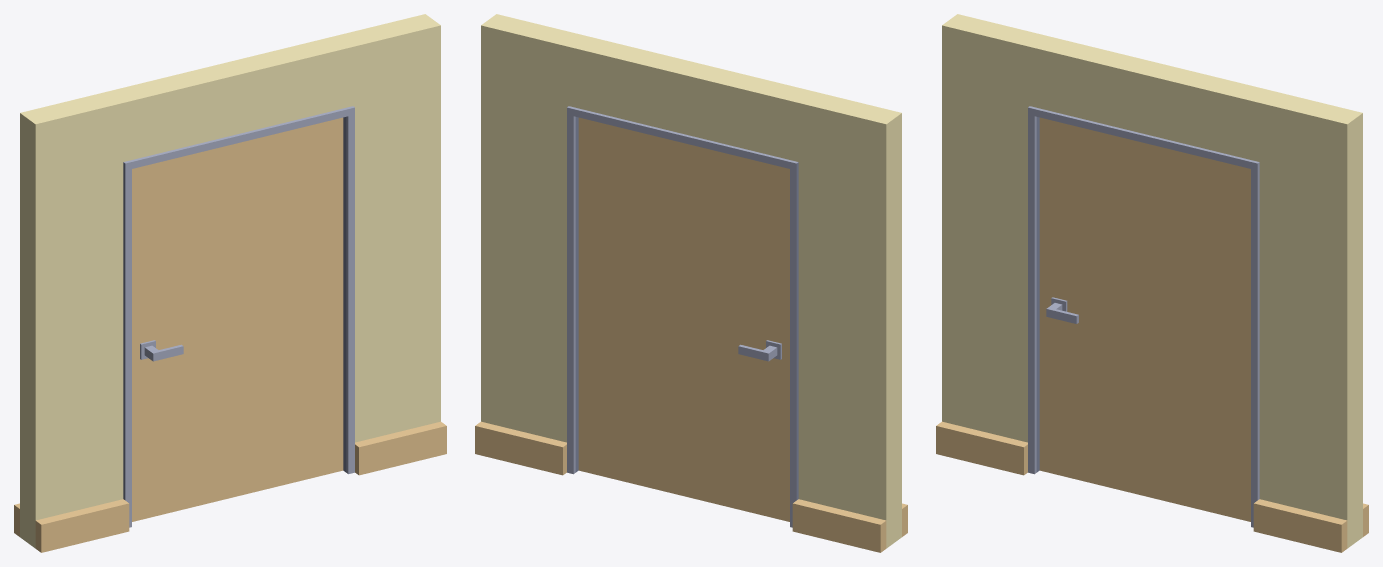
Rendered from TwoSidesWallWithDoor.fbx.
3 renders of one model, left to right at view 1: azimuth 30°, elevation 25°; view 2: azimuth 150°, elevation 25°; view 3: azimuth 330°, elevation 25°, orthographic.
Visible parts, largest first — view 1: Wall, Door; view 2: Wall, Door; view 3: Wall, Door.
Boxes of the visible parts, left/top/right/bottom form: Wall: left=14, top=14, right=446, bottom=552; Door: left=132, top=117, right=343, bottom=521; Wall: left=475, top=14, right=907, bottom=552; Door: left=578, top=117, right=789, bottom=521; Wall: left=936, top=14, right=1368, bottom=552; Door: left=1039, top=117, right=1250, bottom=521.
Size of the model in its own units: 600 by 600 by 73.69.
